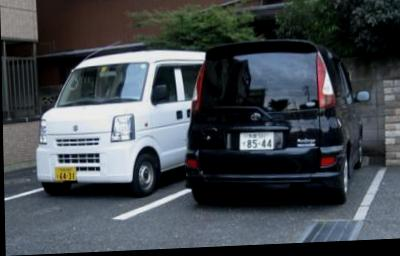License_Plate: (239, 130, 274, 151), (54, 166, 76, 180)
